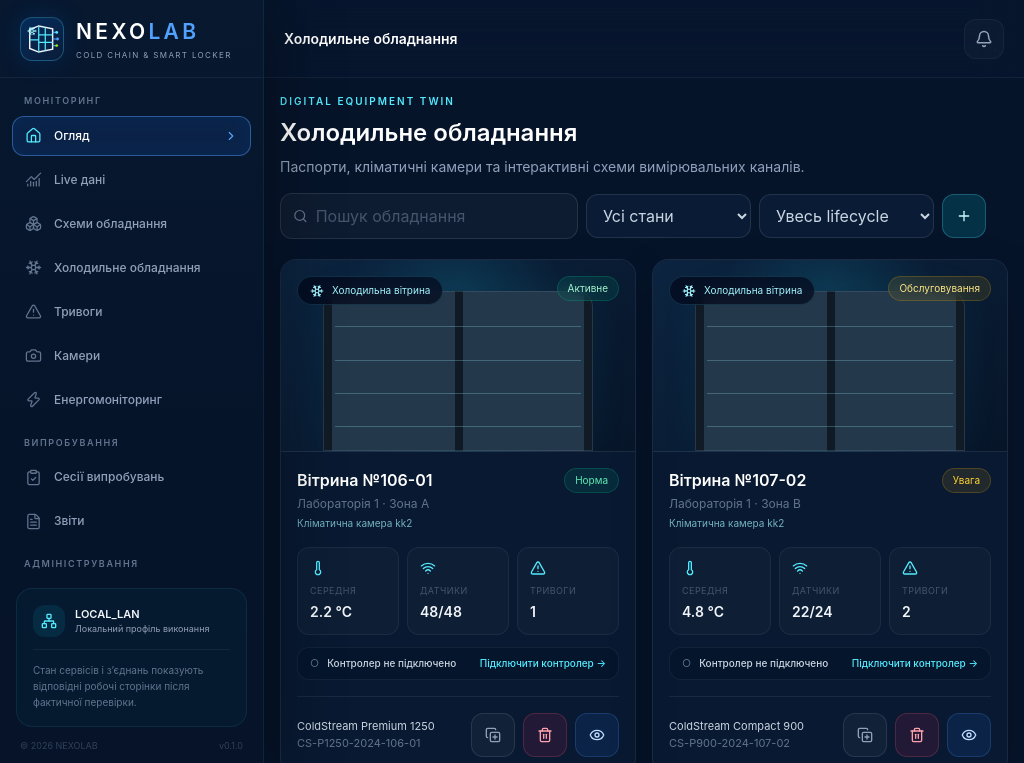
RefrigerationCatalogScreen › creates an independent copy only after selecting its climate chamber
Expected: the heading "Вітрина №106-01" is shown, left=297, top=468, right=432, bottom=492
Step 1. Click the button named "Копіювати Вітрина №106-01" → (493, 734), box left=471, top=712, right=515, bottom=756
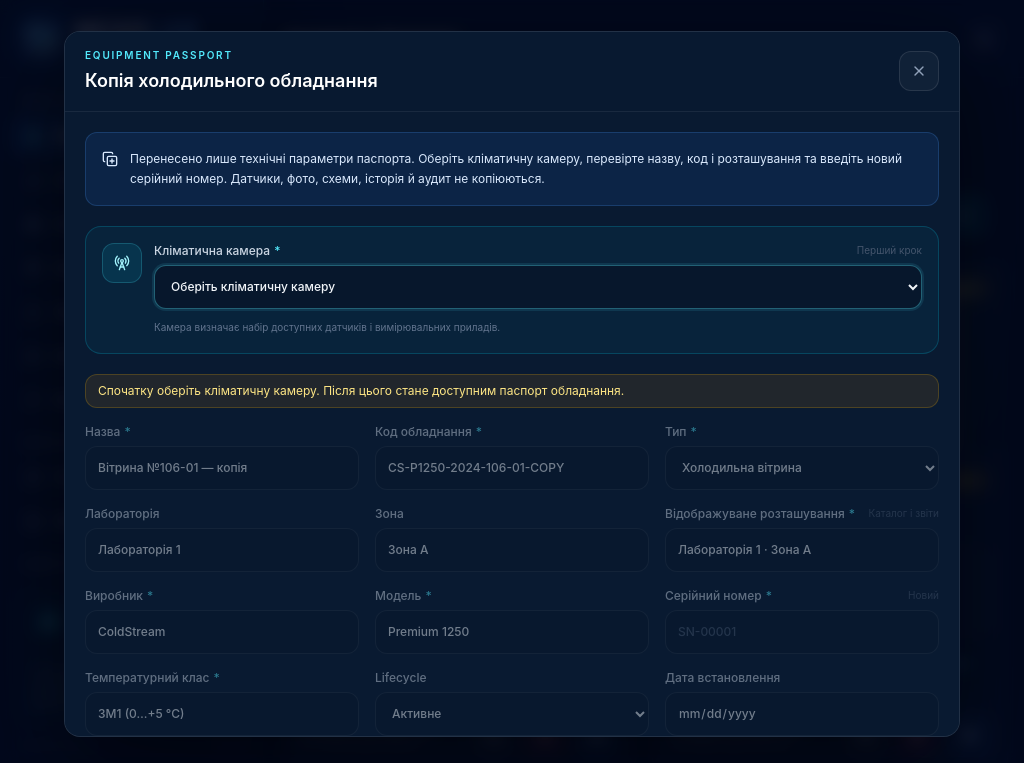
Expected: the heading "Копія холодильного обладнання" is shown, left=85, top=67, right=378, bottom=95
Expected: the dropdown labelled "Кліматична камера* Перший крок" shows "Оберіть кліматичну камеру"
Expected: the field labelled "Назва*" is disabled, left=85, top=446, right=359, bottom=490
Step 2. Select "Кліматична камера КК2" in the dropdown labelled "Кліматична камера* Перший крок" → (538, 287), box left=154, top=265, right=922, bottom=309
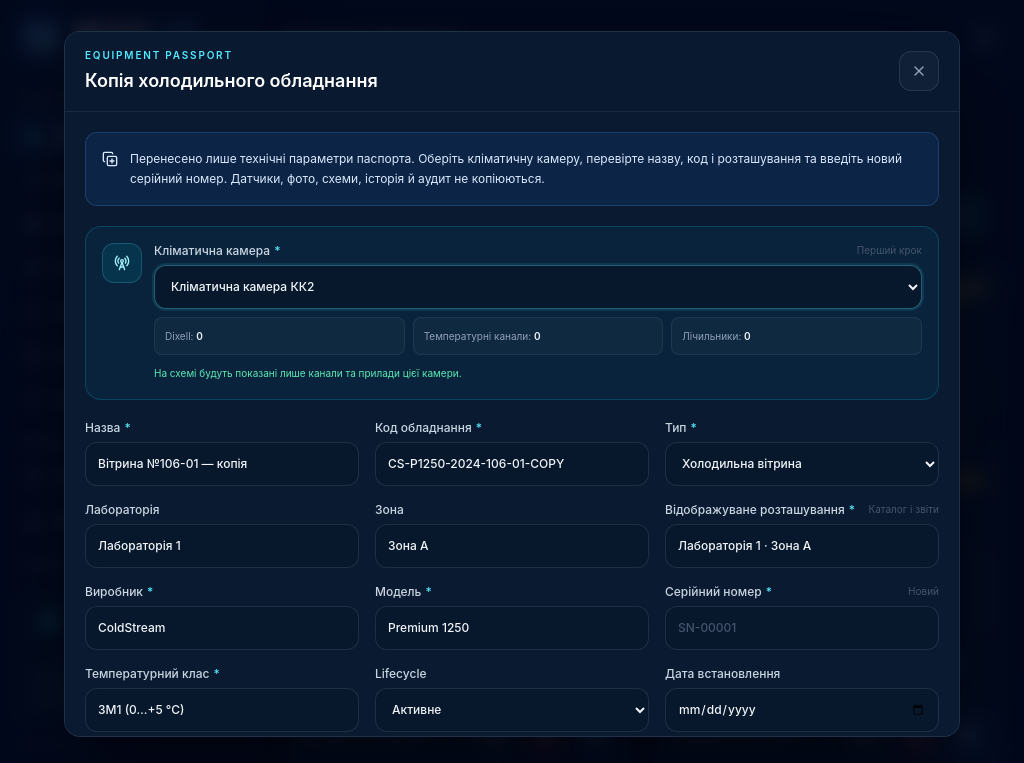
Expected: the text "Температурні канали: 0" is shown, left=413, top=317, right=663, bottom=355
Expected: the text "Dixell: 0" is shown, left=154, top=317, right=405, bottom=355
Expected: the text "Лічильники: 0" is shown, left=671, top=317, right=922, bottom=355
Step 3. Type "COPY-SN-001" into the field labelled "Серійний номер* Новий" → (802, 628), box left=665, top=606, right=939, bottom=650
(page scrolled)
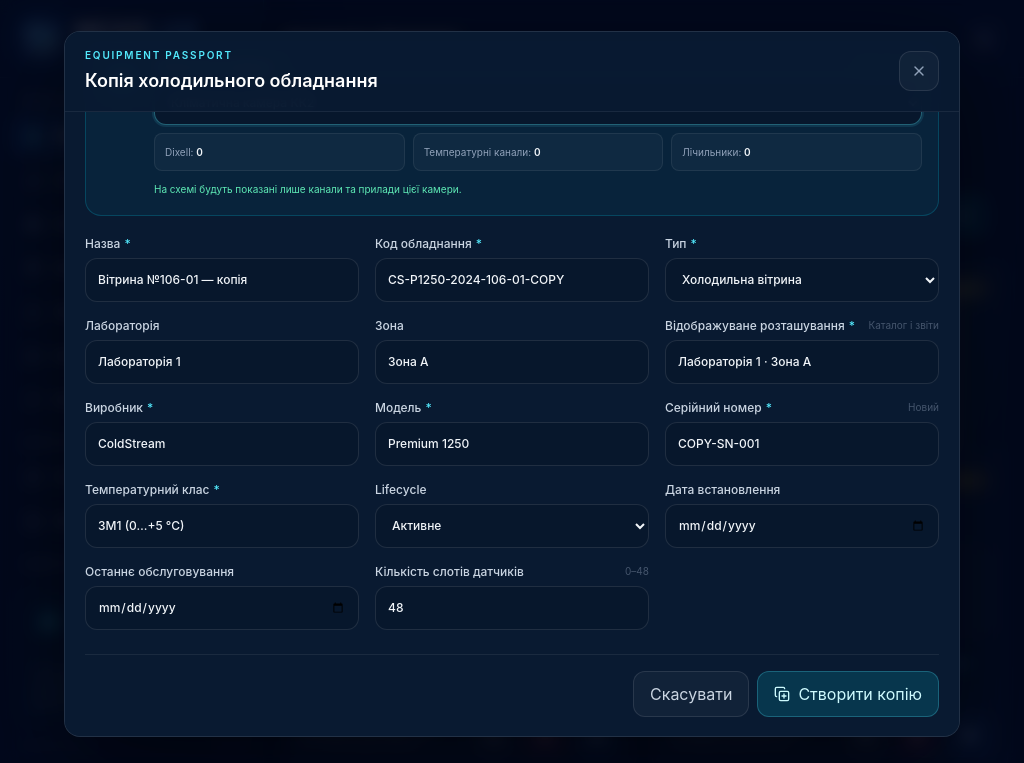
Step 4. Click the button "Створити копію" → (848, 694), box left=757, top=671, right=939, bottom=717
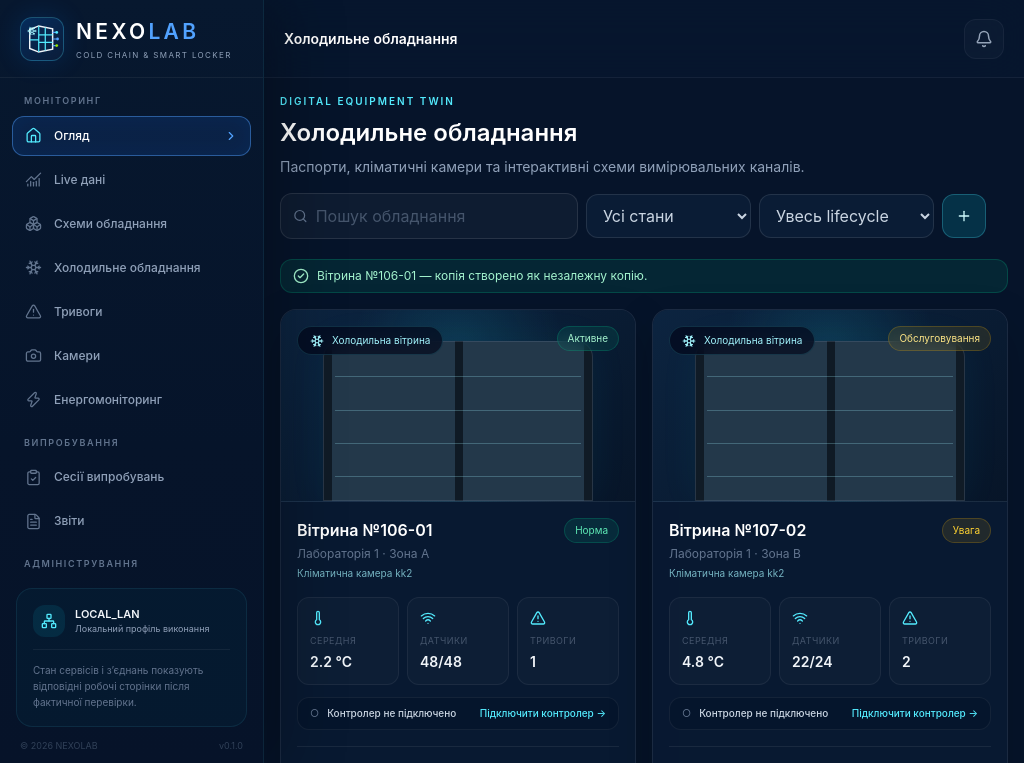
Expected: the message shows "створено як незалежну копію", left=317, top=268, right=648, bottom=283
